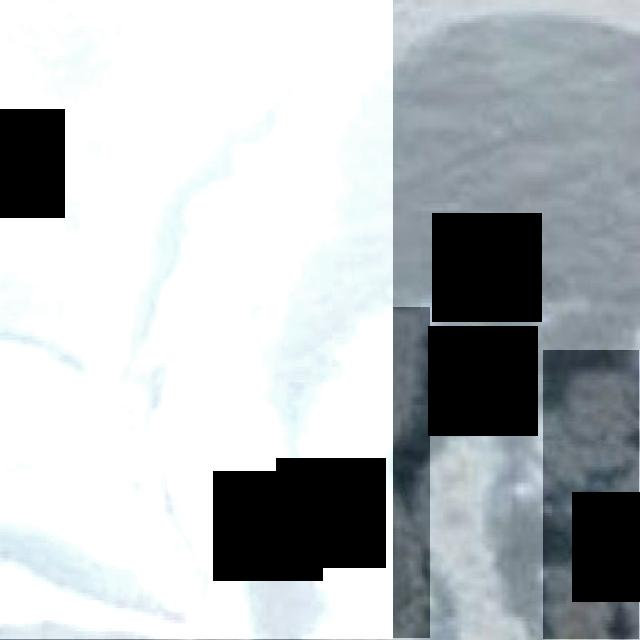oil spill: (0, 1, 393, 639), (303, 308, 430, 638), (543, 351, 640, 639)
